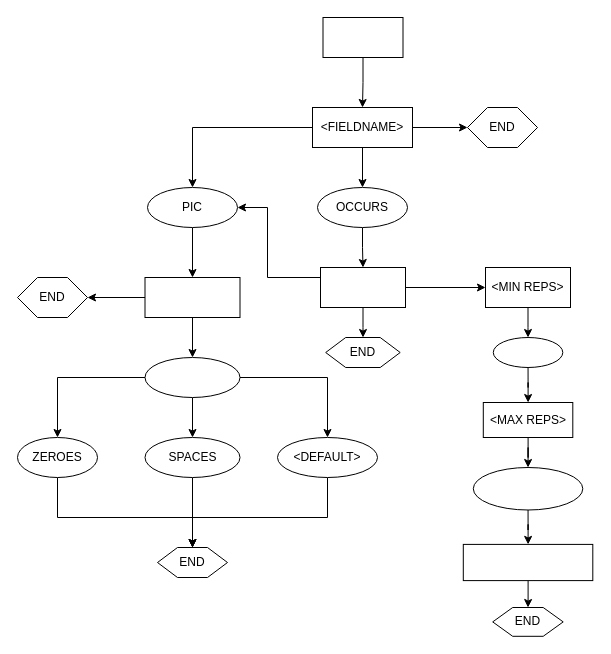
This 611x654 diagram has some shape labels left out. The centre of each missing label's shape, as x and y in pixels:
"<FIELD NAME REF>" goes at point 527,562.
"<LEVEL>" goes at point 362,37.
"<N° REPS>" goes at point 363,287.
"<TYPE>" goes at point 192,297.
"DEPENDING ON" goes at point 527,488.
"TO" goes at point 527,352.
"VALUE" goes at point 192,377.
